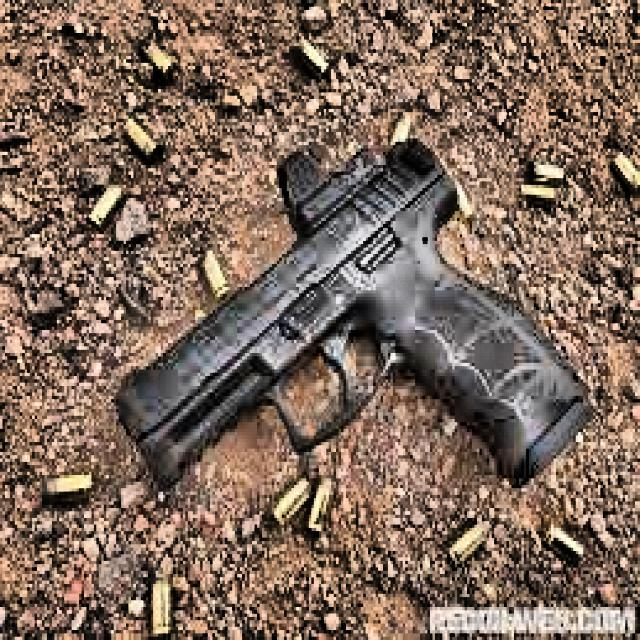HKVP9: (111, 129, 596, 495)
